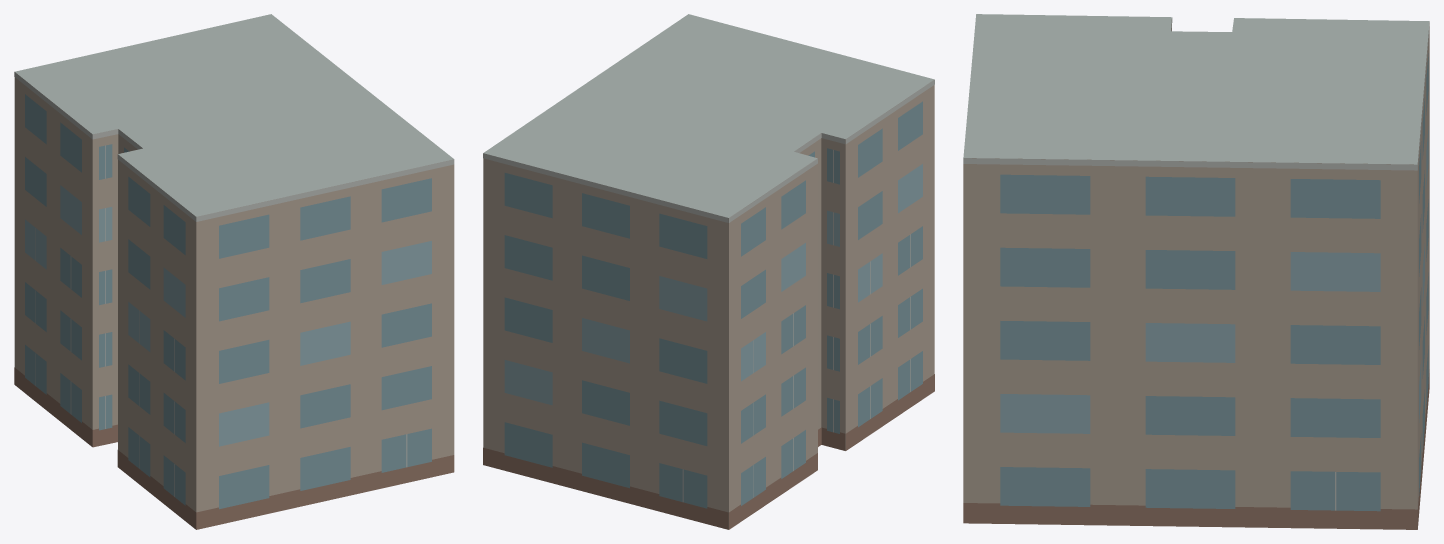
Rendered from survey-upis-32835437.glb.
3 views of the same model, side by side, from view 1: azimuth 30°, elevation 25°; view 2: azimuth 150°, elevation 25°; view 3: azimuth 270°, elevation 25° (orthographic). The views are drawn at different scales.
Visible parts, largest first — view 1: survey-upis-32835437.tmp; view 2: survey-upis-32835437.tmp; view 3: survey-upis-32835437.tmp.
Part boxes in pixels (x1=…): survey-upis-32835437.tmp: x1=14, y1=14, x2=454, y2=529; survey-upis-32835437.tmp: x1=483, y1=14, x2=934, y2=529; survey-upis-32835437.tmp: x1=963, y1=14, x2=1429, y2=529.
Bounding box in the file's own units: 13.08 × 14.8 × 17.13.
